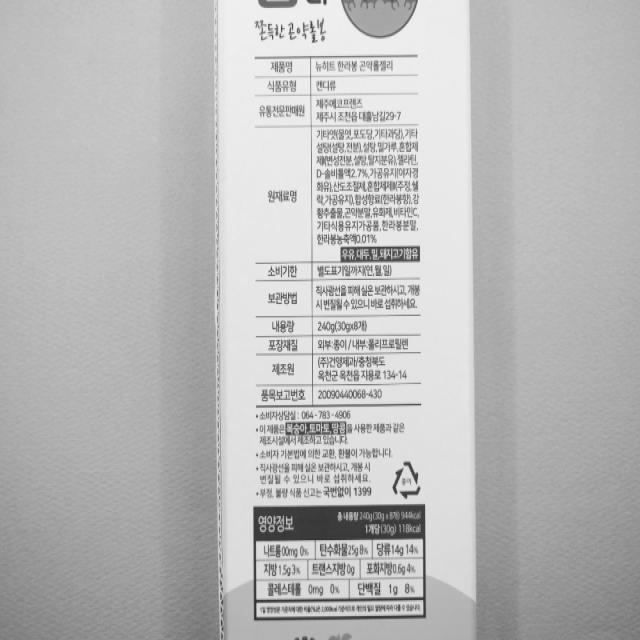Nutrition Label: (252, 504, 434, 623)
